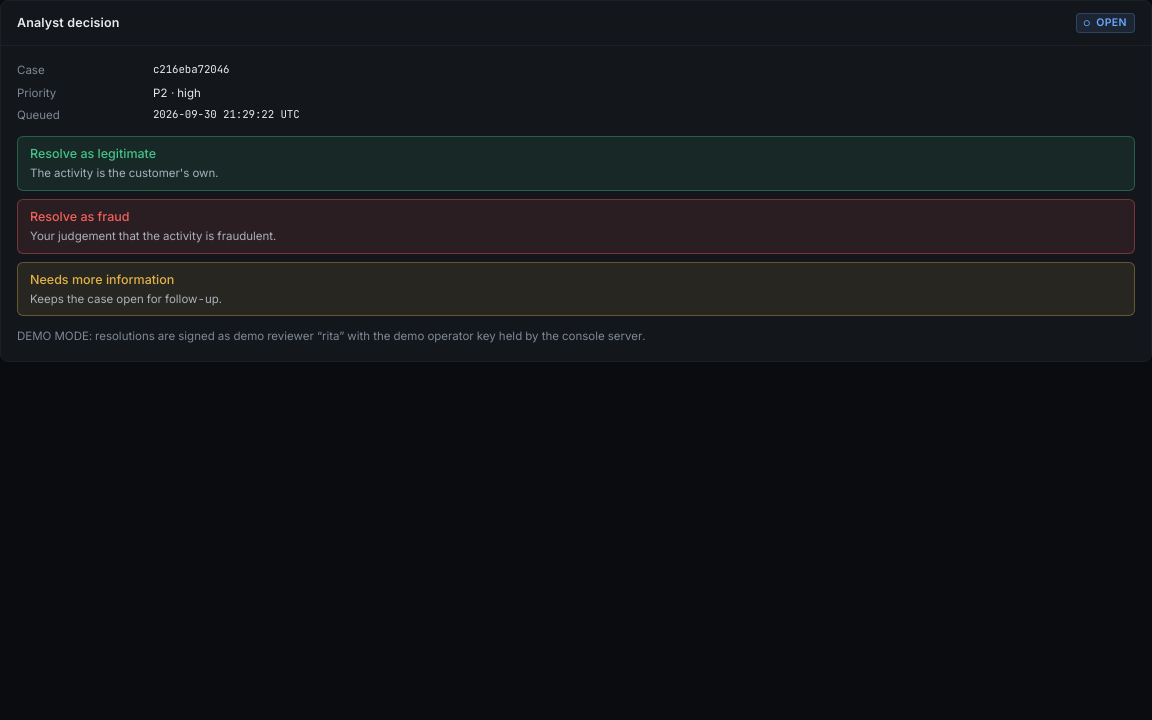
Scenario: keyboard: R opens the resolve panel and never submits › the confirmation says what will happen before anything is sent
Expected: the text "DEMO MODE: resolutions are signed" is shown, [17,329,646,343]
Click the button with test id "resolve-fraud" at (80, 216), box [17,199,1135,254]
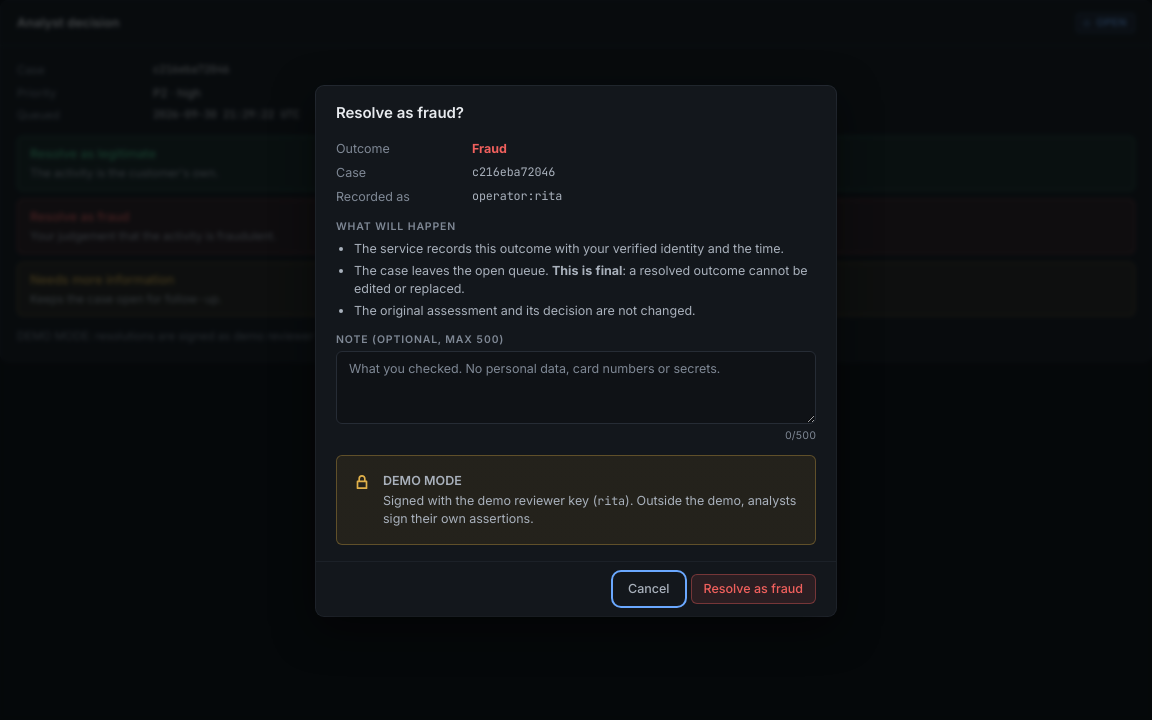
Now the text "What will happen" is shown, box [336,220,456,232]
Now the list item "The original assessment and its decision are not changed." is shown, box [354,303,695,318]
Now the text "operator:rita" is shown, box [472,188,562,204]
